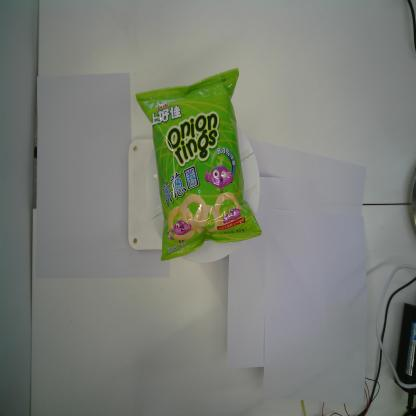Puffed Food: (134, 64, 263, 262)
